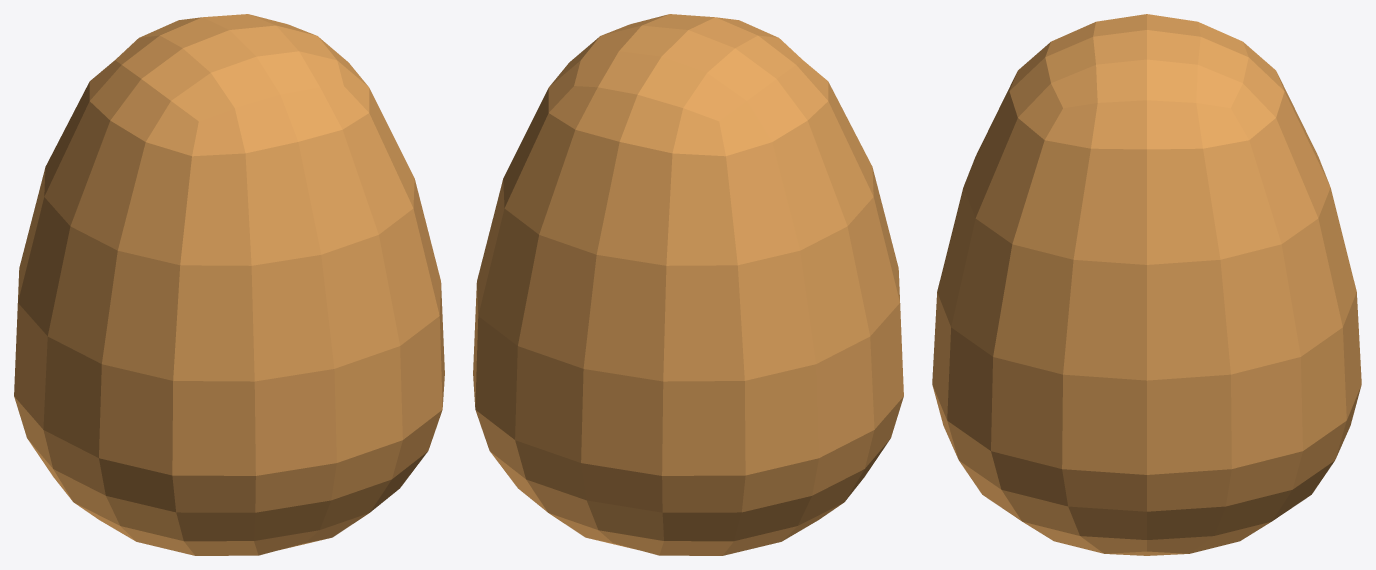
Rendered from Egg_Whole.obj.
The picture shows the model from 3 angles, left to right: view 1: azimuth 30°, elevation 25°; view 2: azimuth 150°, elevation 25°; view 3: azimuth 270°, elevation 25°; orthographic projection.
Visible parts, largest first — view 1: Egg_Whole; view 2: Egg_Whole; view 3: Egg_Whole.
Boxes of the visible parts, box(x1,y1,x2,y2) form: Egg_Whole: box(14, 14, 444, 555); Egg_Whole: box(473, 14, 903, 555); Egg_Whole: box(932, 14, 1361, 555).
Bounding box in the file's own units: 0.3633 × 0.4659 × 0.3633.
